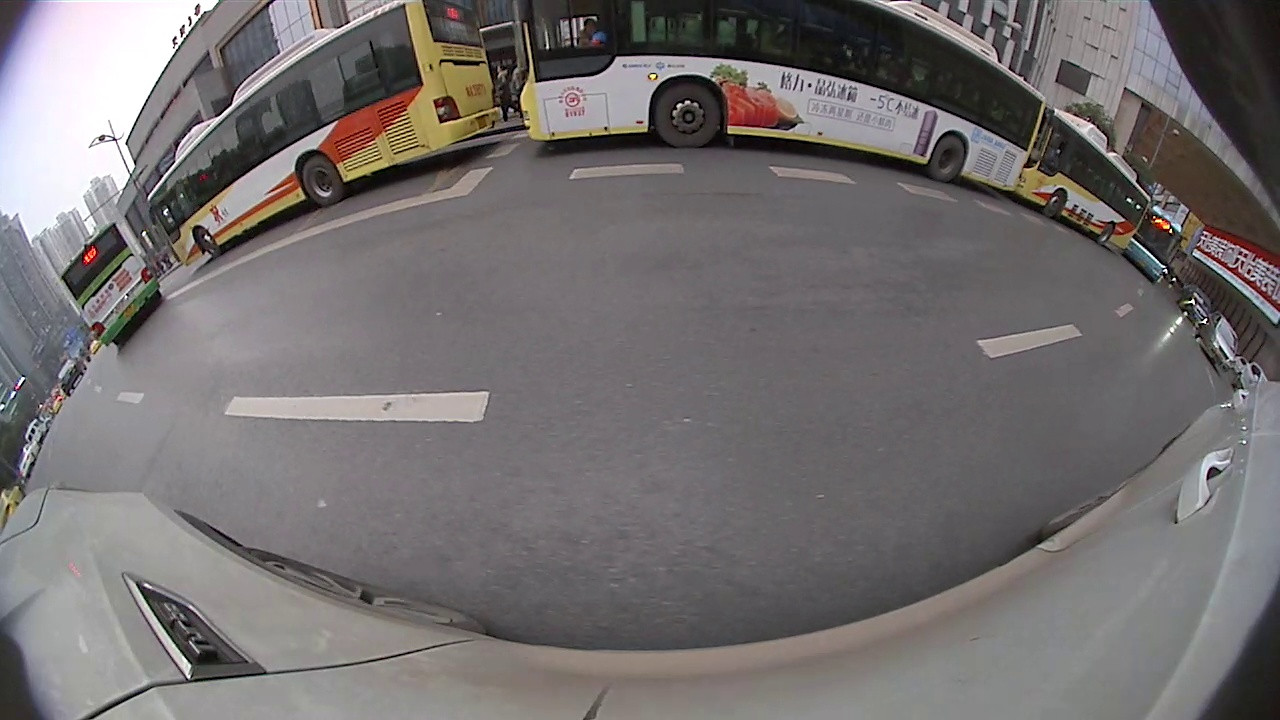bus: (510, 2, 1044, 201), (142, 1, 491, 271), (1019, 107, 1154, 254), (57, 220, 163, 348)
car: (1194, 312, 1243, 374)
front: (653, 82, 725, 147), (1046, 187, 1067, 216)
rear: (297, 155, 346, 205), (930, 132, 966, 185), (1100, 217, 1118, 245)
